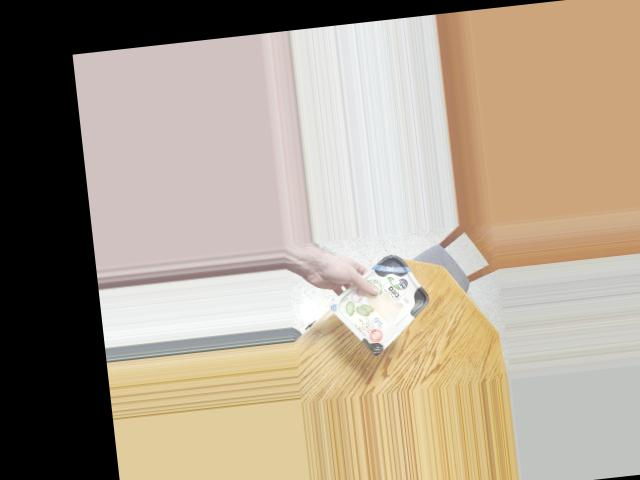cheese: (340, 249, 433, 350)
